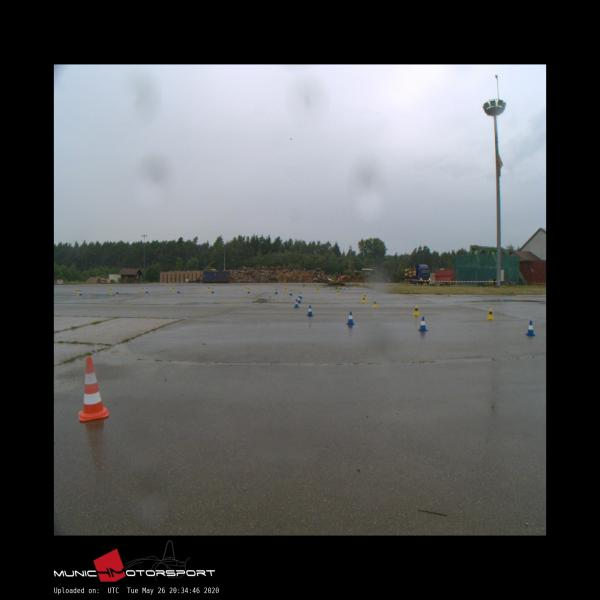blue_cone: (524, 320, 536, 336), (418, 316, 427, 331), (346, 311, 354, 324), (306, 305, 313, 316), (294, 299, 299, 308), (299, 292, 303, 298), (298, 296, 301, 303), (275, 289, 278, 294), (177, 288, 180, 293), (116, 289, 119, 294), (247, 289, 250, 293), (211, 289, 214, 293), (79, 291, 82, 295), (290, 290, 292, 295), (146, 288, 148, 293)
large_orange_cone: (78, 357, 108, 421)
yellow_cone: (412, 305, 420, 314), (487, 308, 494, 318), (372, 299, 378, 307), (362, 296, 366, 303), (76, 289, 80, 294), (337, 289, 340, 294), (364, 293, 366, 299), (316, 288, 319, 292), (245, 286, 248, 290), (207, 286, 210, 290), (172, 286, 175, 290), (141, 286, 144, 290), (285, 286, 287, 291), (110, 288, 112, 292)
